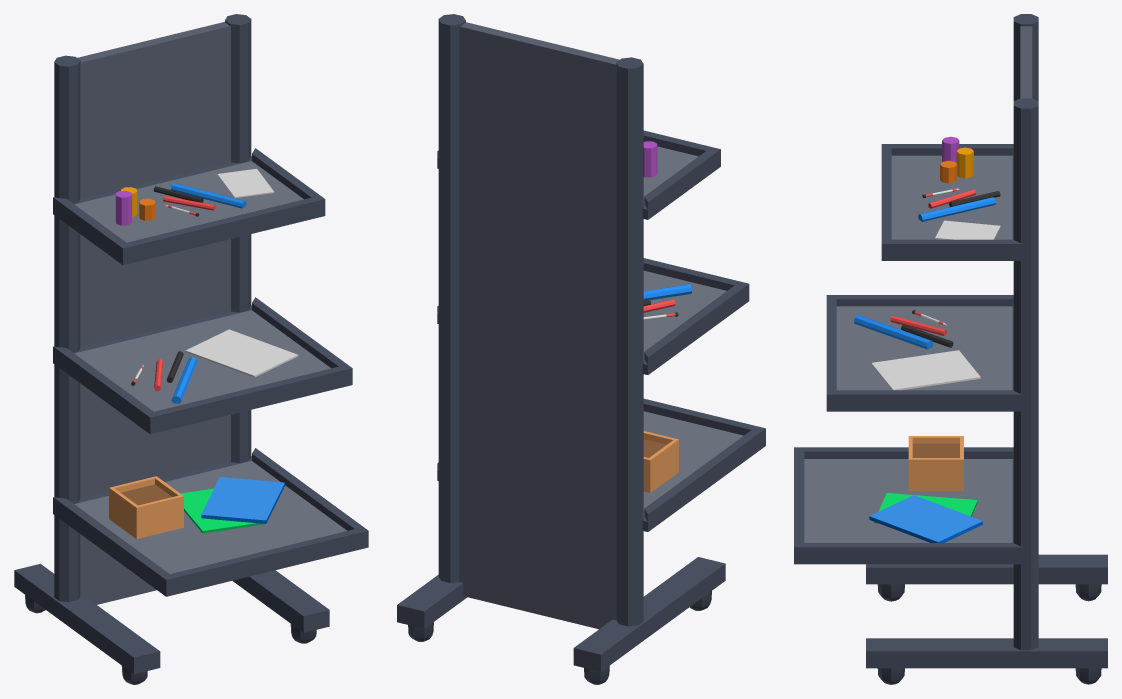
The model's file is Shelf.fbx.
3 views of the same model, side by side, from view 1: azimuth 30°, elevation 25°; view 2: azimuth 150°, elevation 25°; view 3: azimuth 270°, elevation 25° (orthographic). The views are drawn at different scales.
Visible parts, largest first — view 1: Shelf; view 2: Shelf; view 3: Shelf.
Part boxes in pixels (x1,y1,x2,y2): Shelf: [14, 14, 368, 684]; Shelf: [397, 14, 765, 684]; Shelf: [794, 14, 1107, 684].
Bounding box in the file's own units: 72.85 × 197 × 96.77.
